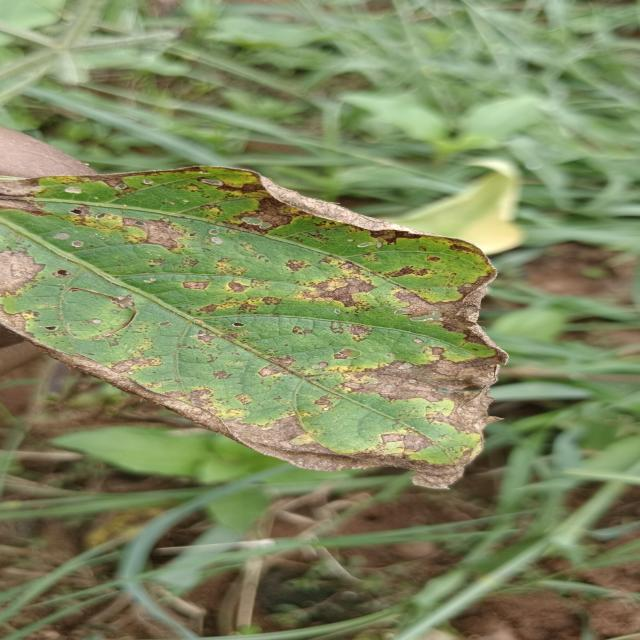Black gram_leaf spot: (0, 158, 529, 494)
